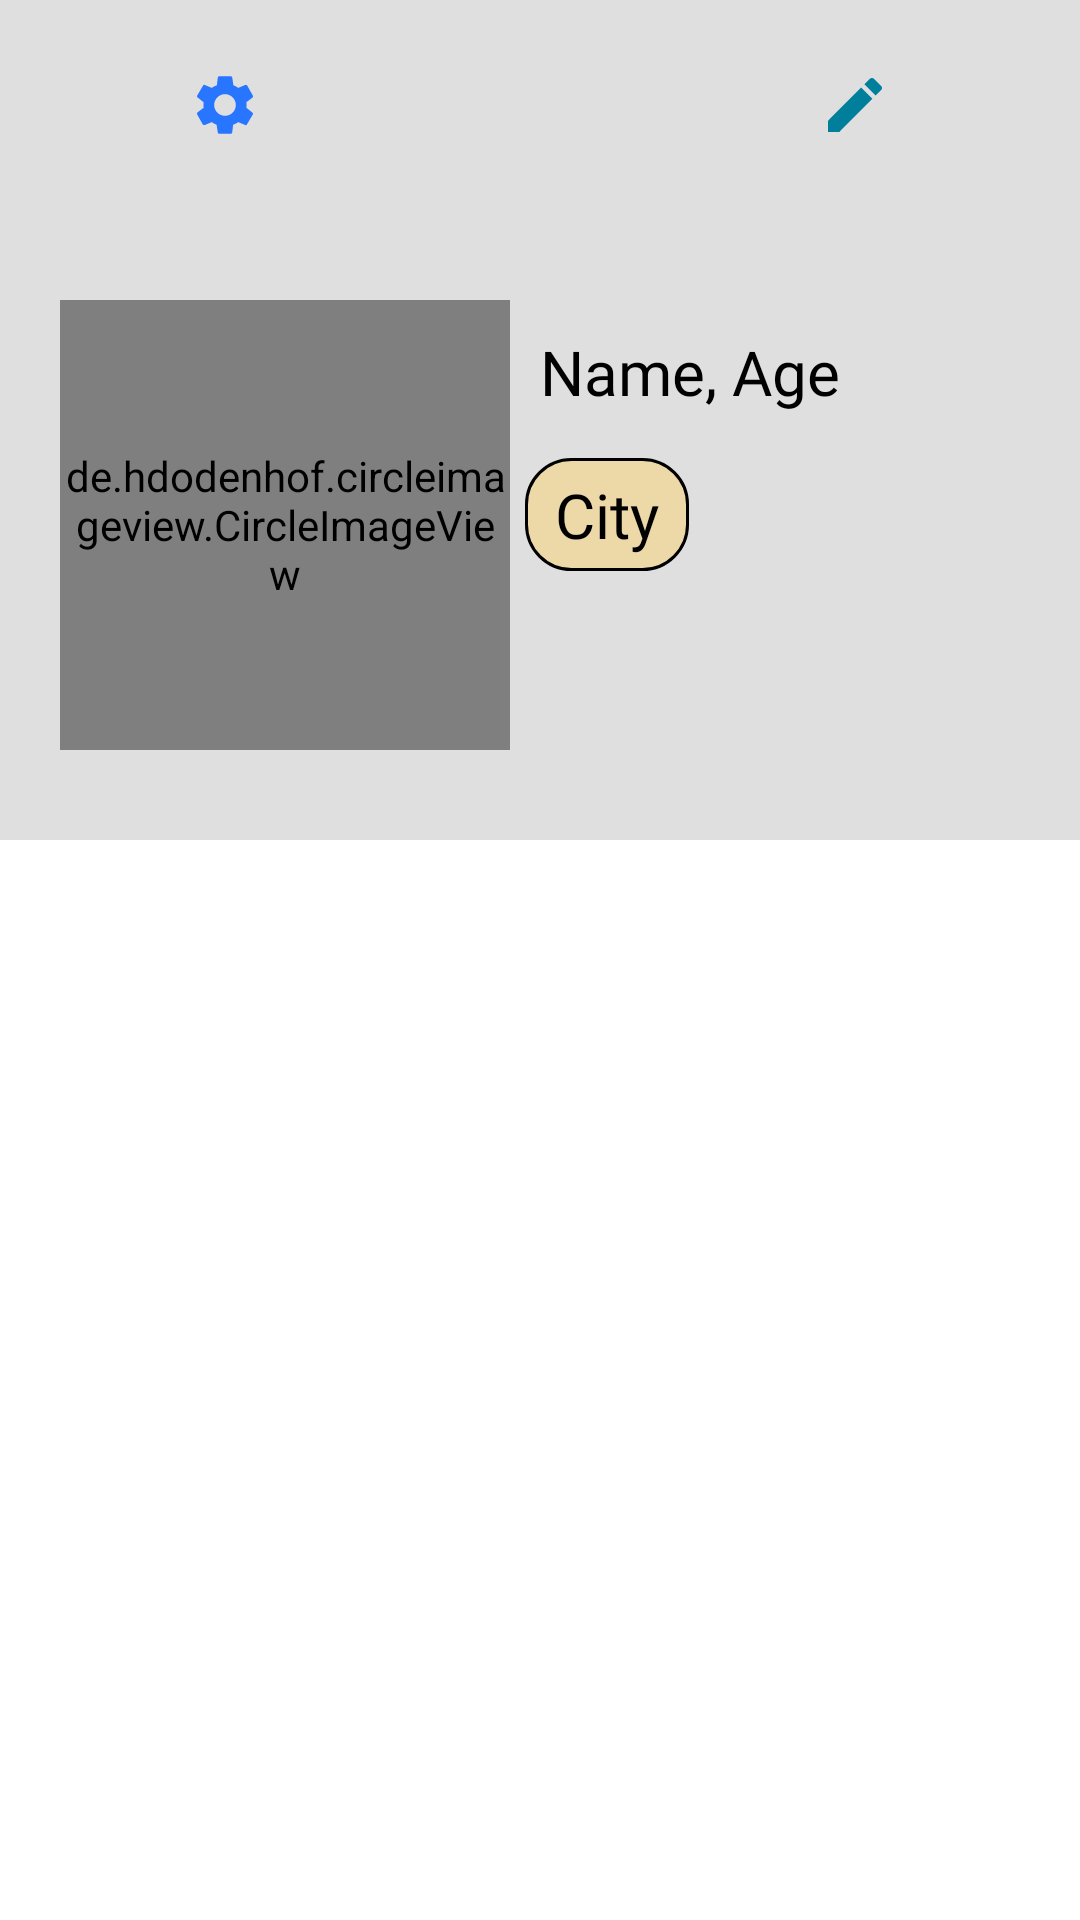

Icon bounding boxes for this 1080x1920 phone screenshot, format (x1, y1, x2, y2):
create: (828, 78, 882, 132)
settings: (197, 76, 253, 134)
